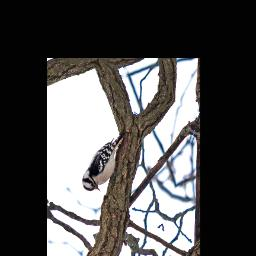Woodpecker: (80, 119, 133, 204)
